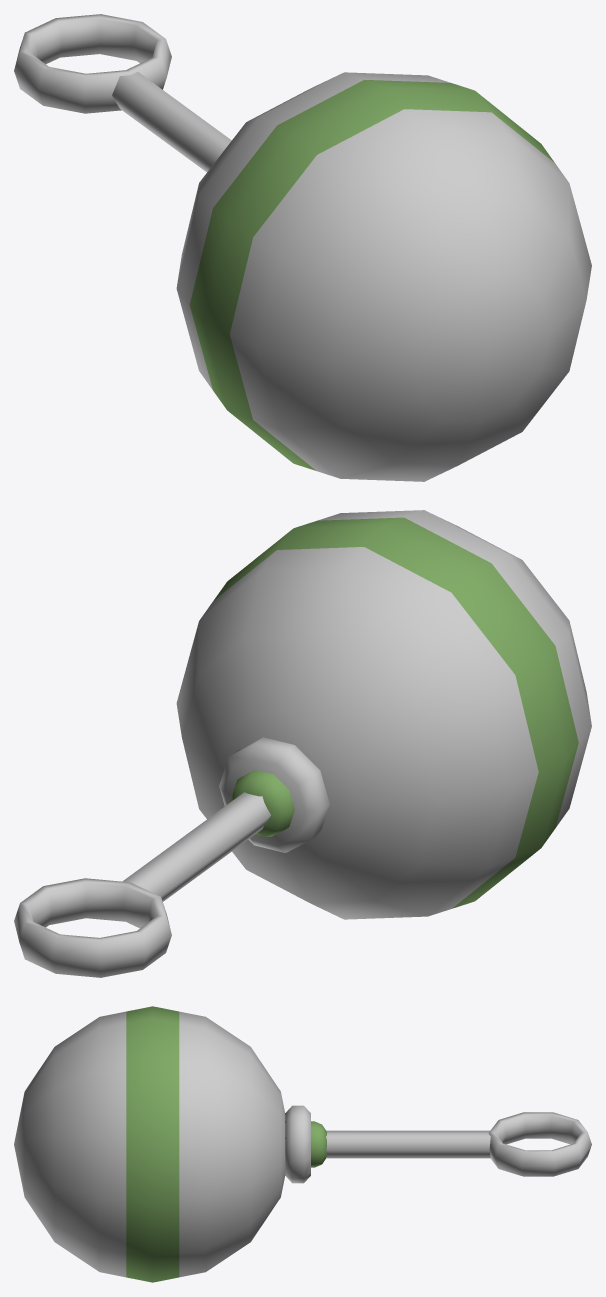
File: BabyRattle_01.fbx
3 views of the same model, one above another, from view 1: azimuth 30°, elevation 25°; view 2: azimuth 150°, elevation 25°; view 3: azimuth 270°, elevation 25° (orthographic). The views are drawn at different scales.
Parts seen in each view (by area): view 1: BabyRattle_01; view 2: BabyRattle_01; view 3: BabyRattle_01.
Part boxes in pixels (x1=…): BabyRattle_01: x1=14, y1=14, x2=591, y2=481; BabyRattle_01: x1=14, y1=510, x2=591, y2=977; BabyRattle_01: x1=14, y1=1006, x2=591, y2=1282.
Size of the model in its own units: 0.1016 by 0.1016 by 0.2115.
